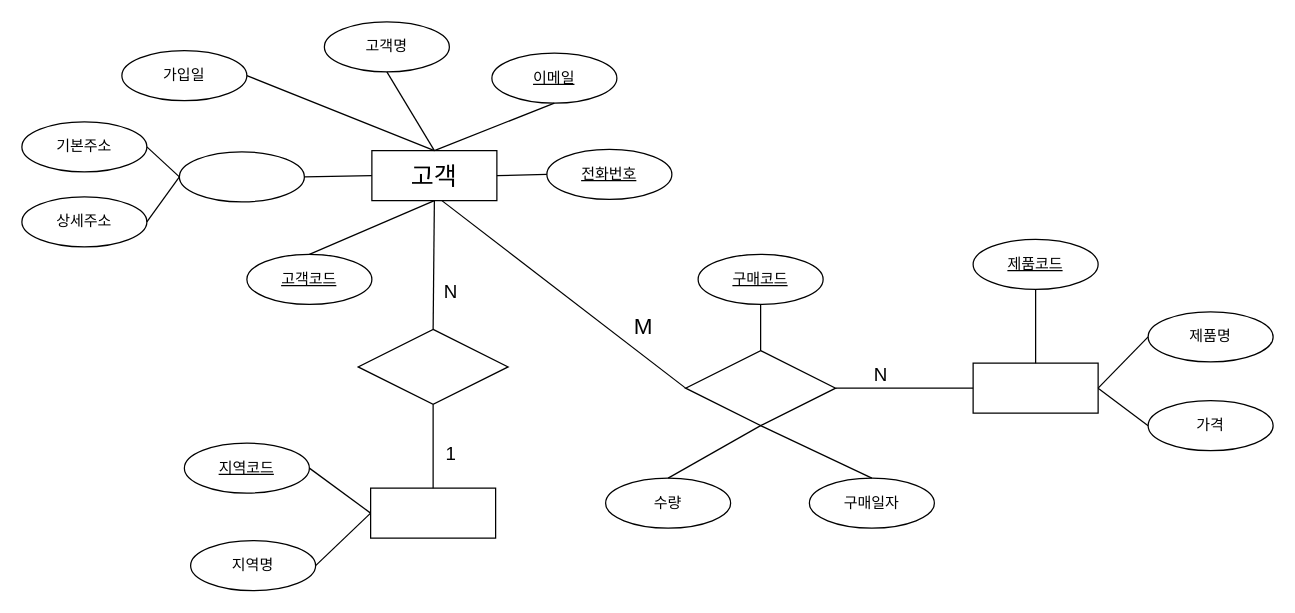
The diagram is 1295 pixels wide and 613 high, and some of its shapes have lost their labels. The shapes that lost their labels are listed below. From the top down, each one's centre as x and y in pixels, then its label:
the point at 241,176: 주소
the point at 432,366: 관리
the point at 760,387: 구매
the point at 1035,387: 상품
the point at 432,512: 지역
